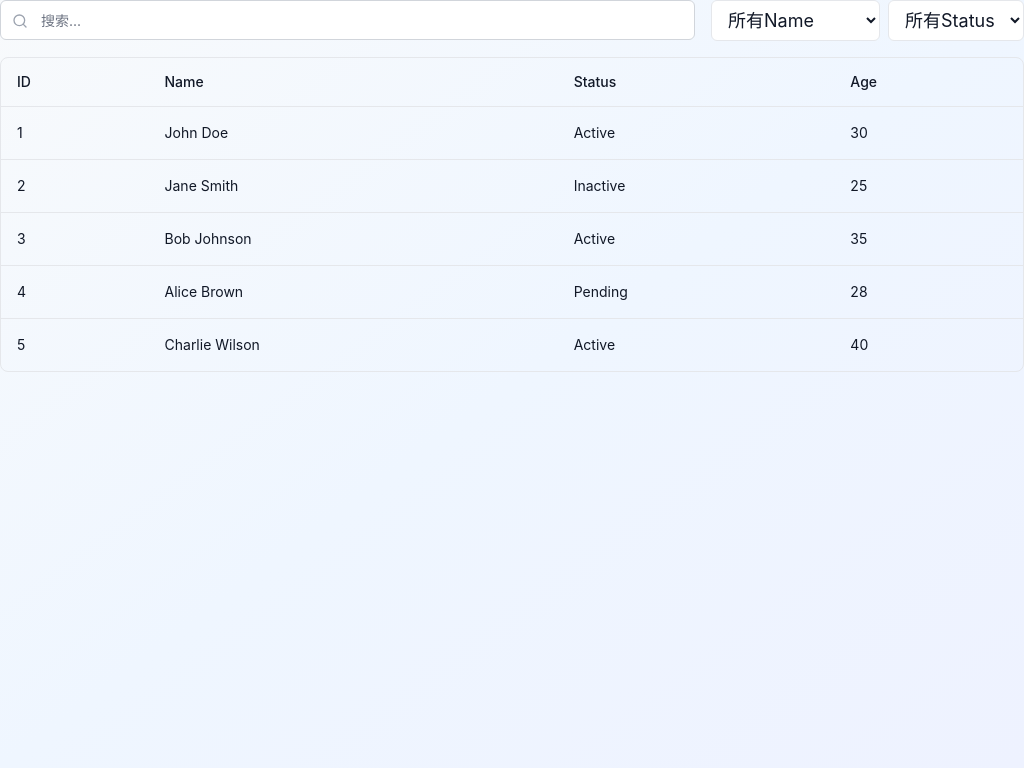
Test case: DataTable Component › Search Functionality › should show empty message when search has no results
The image size is (1024, 768).
Type "NonExistent" into the field with placeholder "搜索..." at (348, 20), box left=0, top=0, right=695, bottom=40
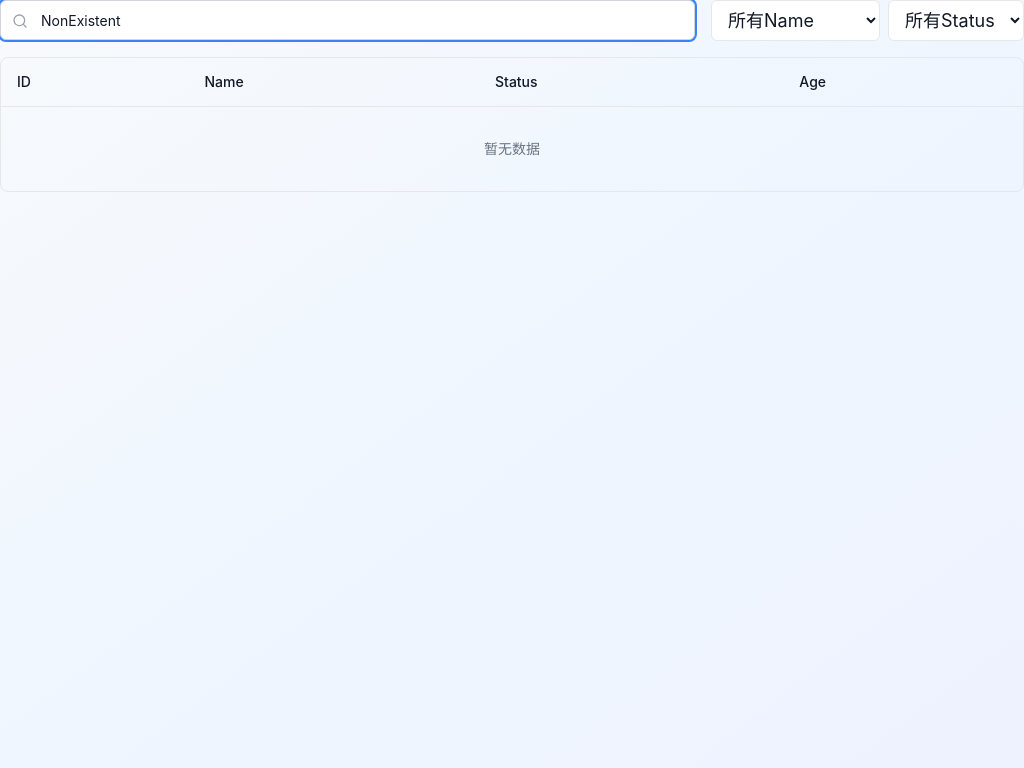
Now the text "暂无数据" is shown, box left=1, top=106, right=1023, bottom=190
